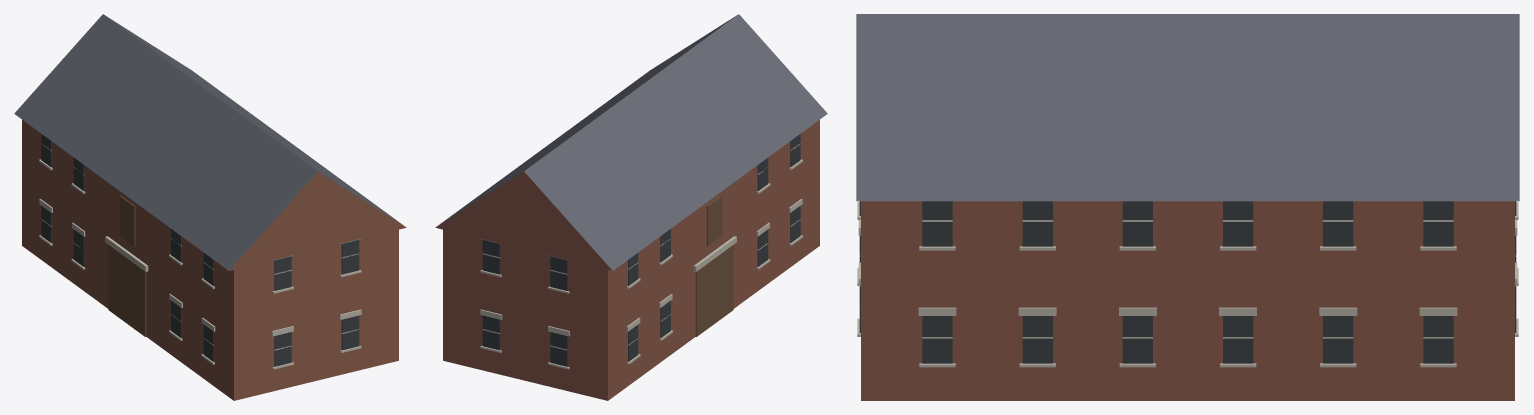
The model's file is tucker_smith_house_2140_prairie_coach_house__draft_1904.glb.
The picture shows the model from 3 angles, left to right: view 1: azimuth 30°, elevation 25°; view 2: azimuth 150°, elevation 25°; view 3: azimuth 270°, elevation 25°; orthographic projection. The views are drawn at different scales.
Visible parts, largest first — view 1: tucker_smith_house_2140_prairie_coach_house__draft_1904; view 2: tucker_smith_house_2140_prairie_coach_house__draft_1904; view 3: tucker_smith_house_2140_prairie_coach_house__draft_1904.
Part boxes in pixels (box(x1,y1,x2,y2)): tucker_smith_house_2140_prairie_coach_house__draft_1904: box(14, 14, 406, 400); tucker_smith_house_2140_prairie_coach_house__draft_1904: box(435, 14, 827, 400); tucker_smith_house_2140_prairie_coach_house__draft_1904: box(856, 14, 1519, 400).
Size of the model in its own units: 8.35 by 9.45 by 17.49.
